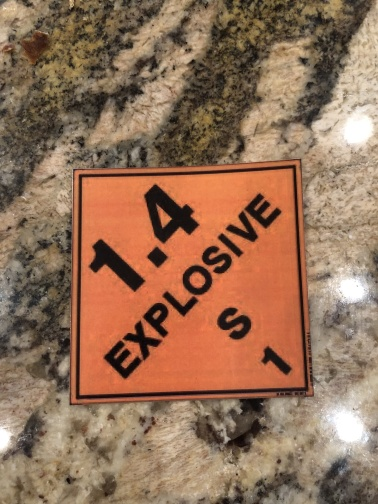Explosive: (72, 167, 318, 400)
